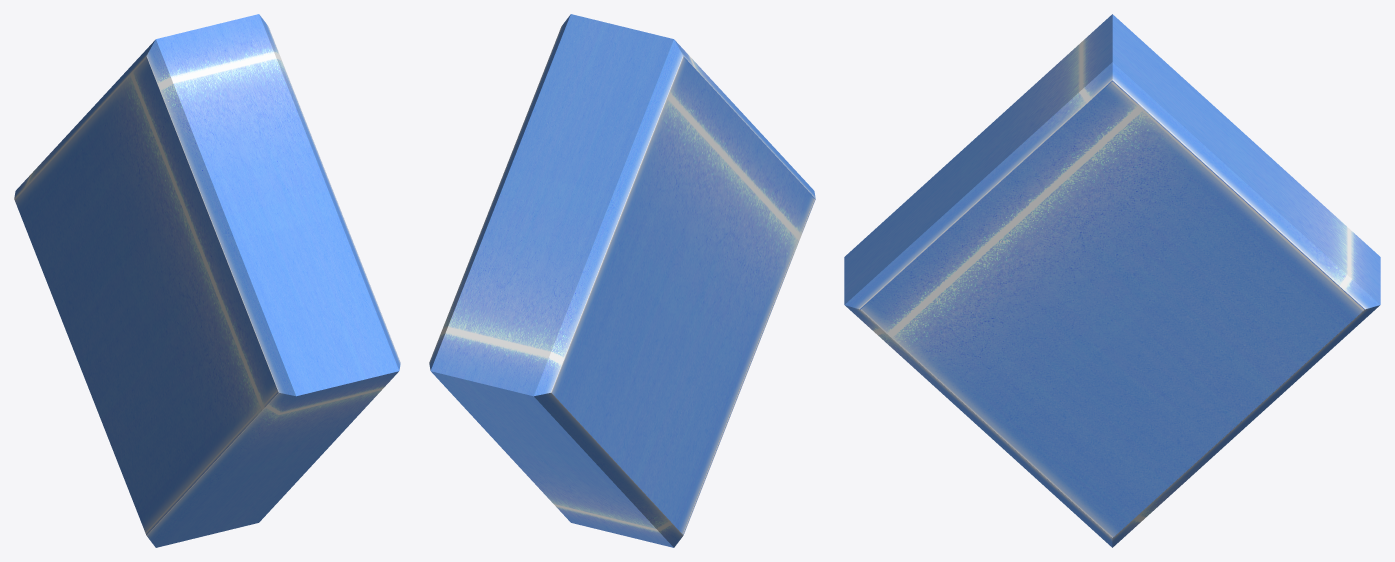
File: SaveSymbol.FBX
The picture shows the model from 3 angles, left to right: view 1: azimuth 30°, elevation 25°; view 2: azimuth 150°, elevation 25°; view 3: azimuth 270°, elevation 25°; orthographic projection. The views are drawn at different scales.
Visible parts, largest first — view 1: SaveSymbol; view 2: SaveSymbol; view 3: SaveSymbol.
Boxes of the visible parts, <box> form: SaveSymbol: <box>14,14,400,547</box>; SaveSymbol: <box>429,14,815,547</box>; SaveSymbol: <box>844,14,1380,547</box>.
Size of the model in its own units: 14.21 by 56.57 by 56.57.
